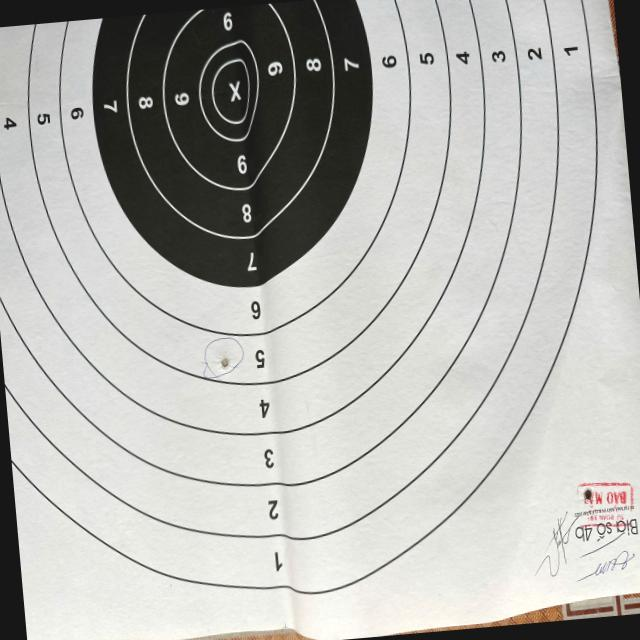bullet: (583, 488, 592, 501), (220, 358, 230, 369)
target: (0, 0, 640, 640)
